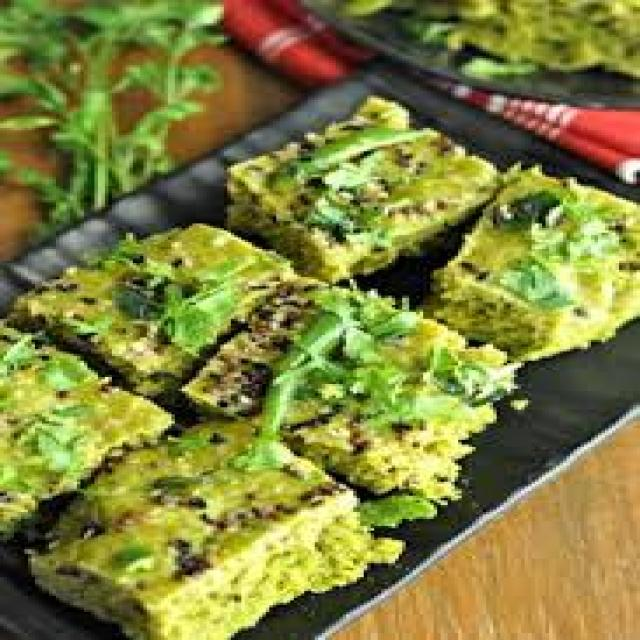DHOKLA: (0, 100, 637, 638), (227, 98, 497, 279), (423, 179, 637, 358), (0, 323, 168, 533)
